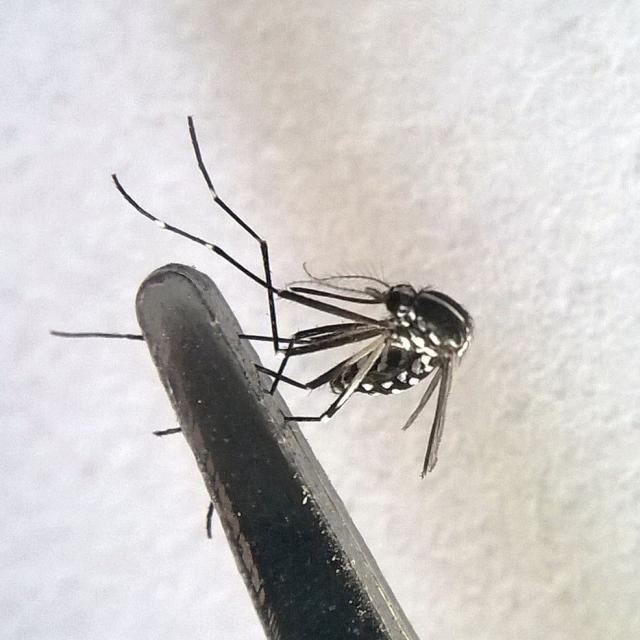albopictus: (74, 92, 484, 558)
